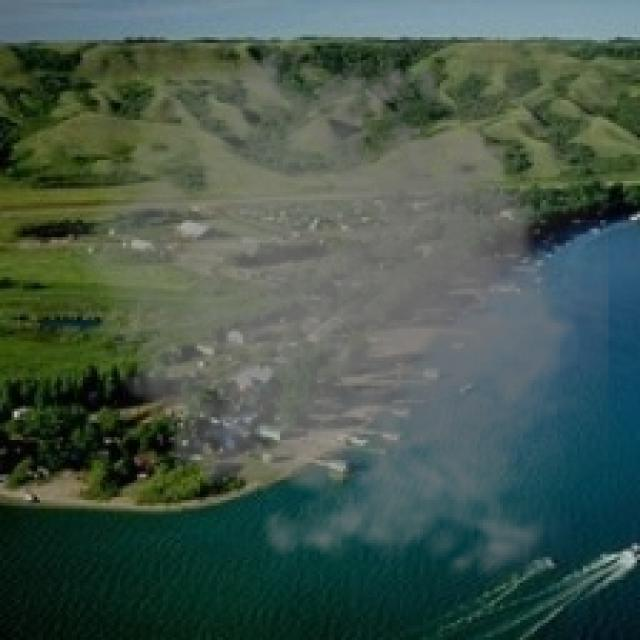smoke: (46, 37, 608, 592)
